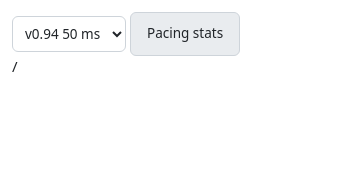
Test: PacingControl › shows why the server refused a change
Expected: the element named "Line pacing" is shown, [12,12,240,56]
Select "Custom…" in the dropdown named "Pacing" at (69, 34), box [12,16,126,52]
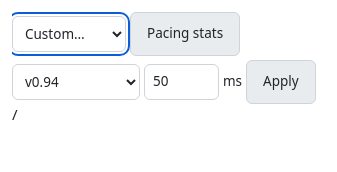
Select "minimum gap" in the dropdown named "Pacing mode" at (76, 82), box [12,64,140,100]
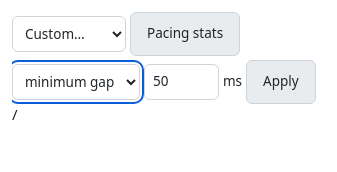
Click the button "Apply" at (281, 82), box [246,60,316,104]
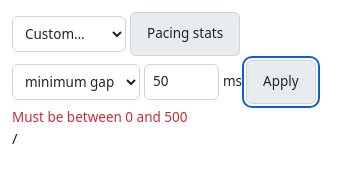
Result: the message reads "Must be between 0 and 500" at [12,108,188,126]
